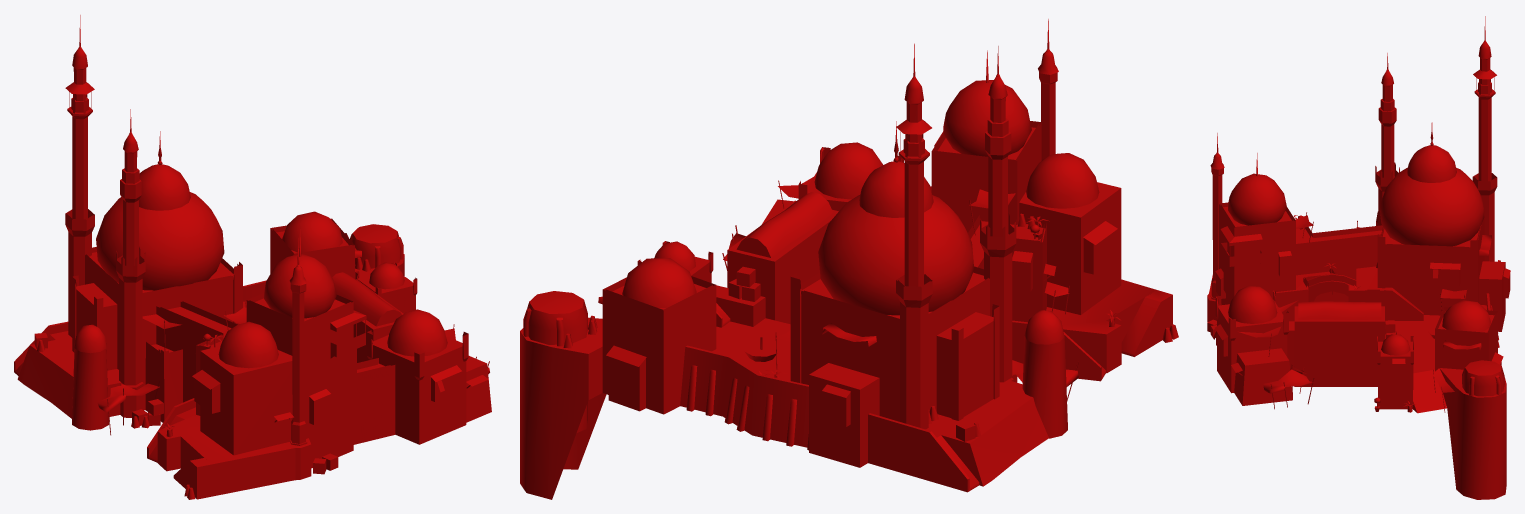
The model's file is s_orient_harbour_lod0.glb.
The picture shows the model from 3 angles, left to right: view 1: azimuth 30°, elevation 25°; view 2: azimuth 150°, elevation 25°; view 3: azimuth 270°, elevation 25°; orthographic projection. The views are drawn at different scales.
Visible parts, largest first — view 1: MODEL_s_orient_harbour_lod0; view 2: MODEL_s_orient_harbour_lod0; view 3: MODEL_s_orient_harbour_lod0.
Boxes of the visible parts, left/top/right/bottom form: MODEL_s_orient_harbour_lod0: left=14, top=15, right=491, bottom=499; MODEL_s_orient_harbour_lod0: left=520, top=19, right=1178, bottom=499; MODEL_s_orient_harbour_lod0: left=1207, top=16, right=1510, bottom=499.
Bounding box in the file's own units: 9.63 × 10.54 × 8.08.
